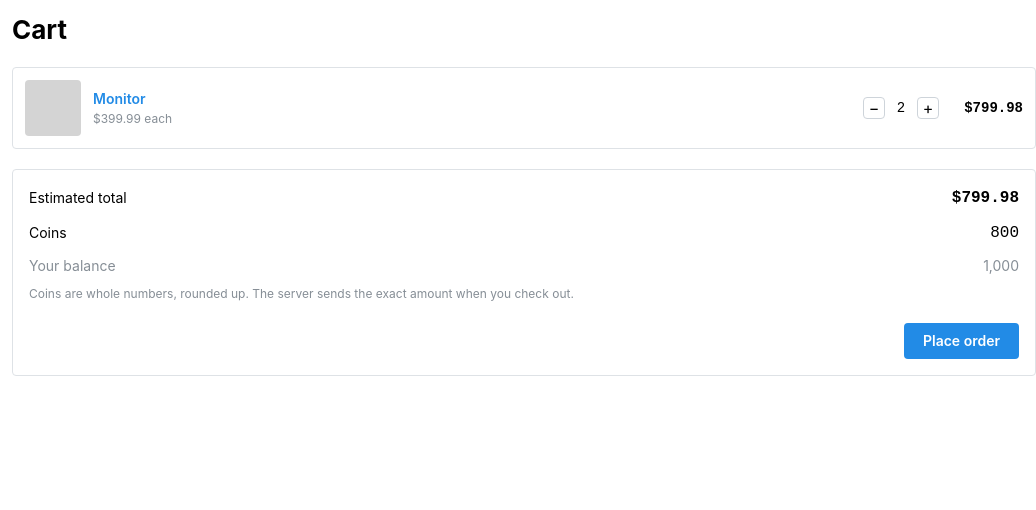
it: CartPage › shows the server's reason when the order is refused
Click the button "Place order" at {"x": 962, "y": 341}, box 904,323 -> 1019,359
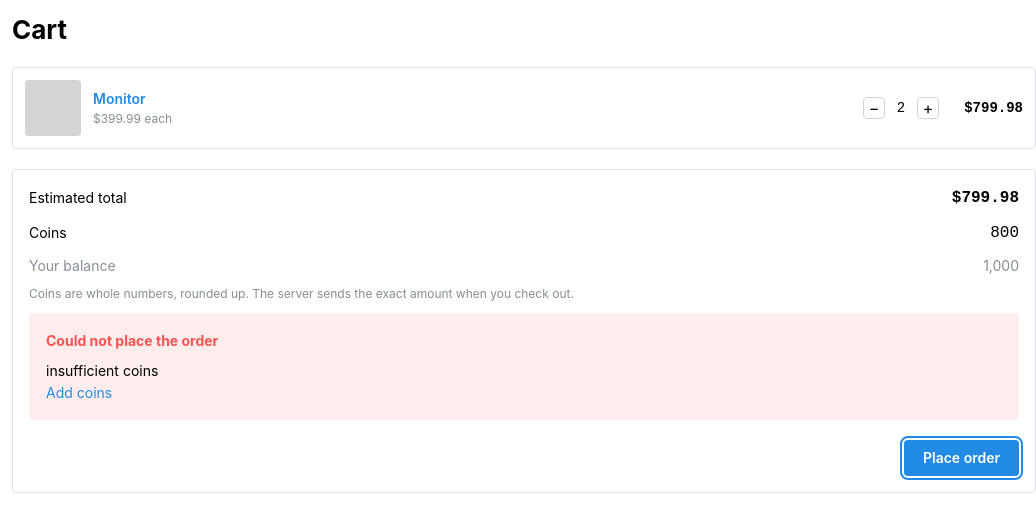
Expected: the text "Estimated total" is shown, 29,188 -> 127,209
Result: the text "insufficient coins" is shown at 46,362 -> 158,380
